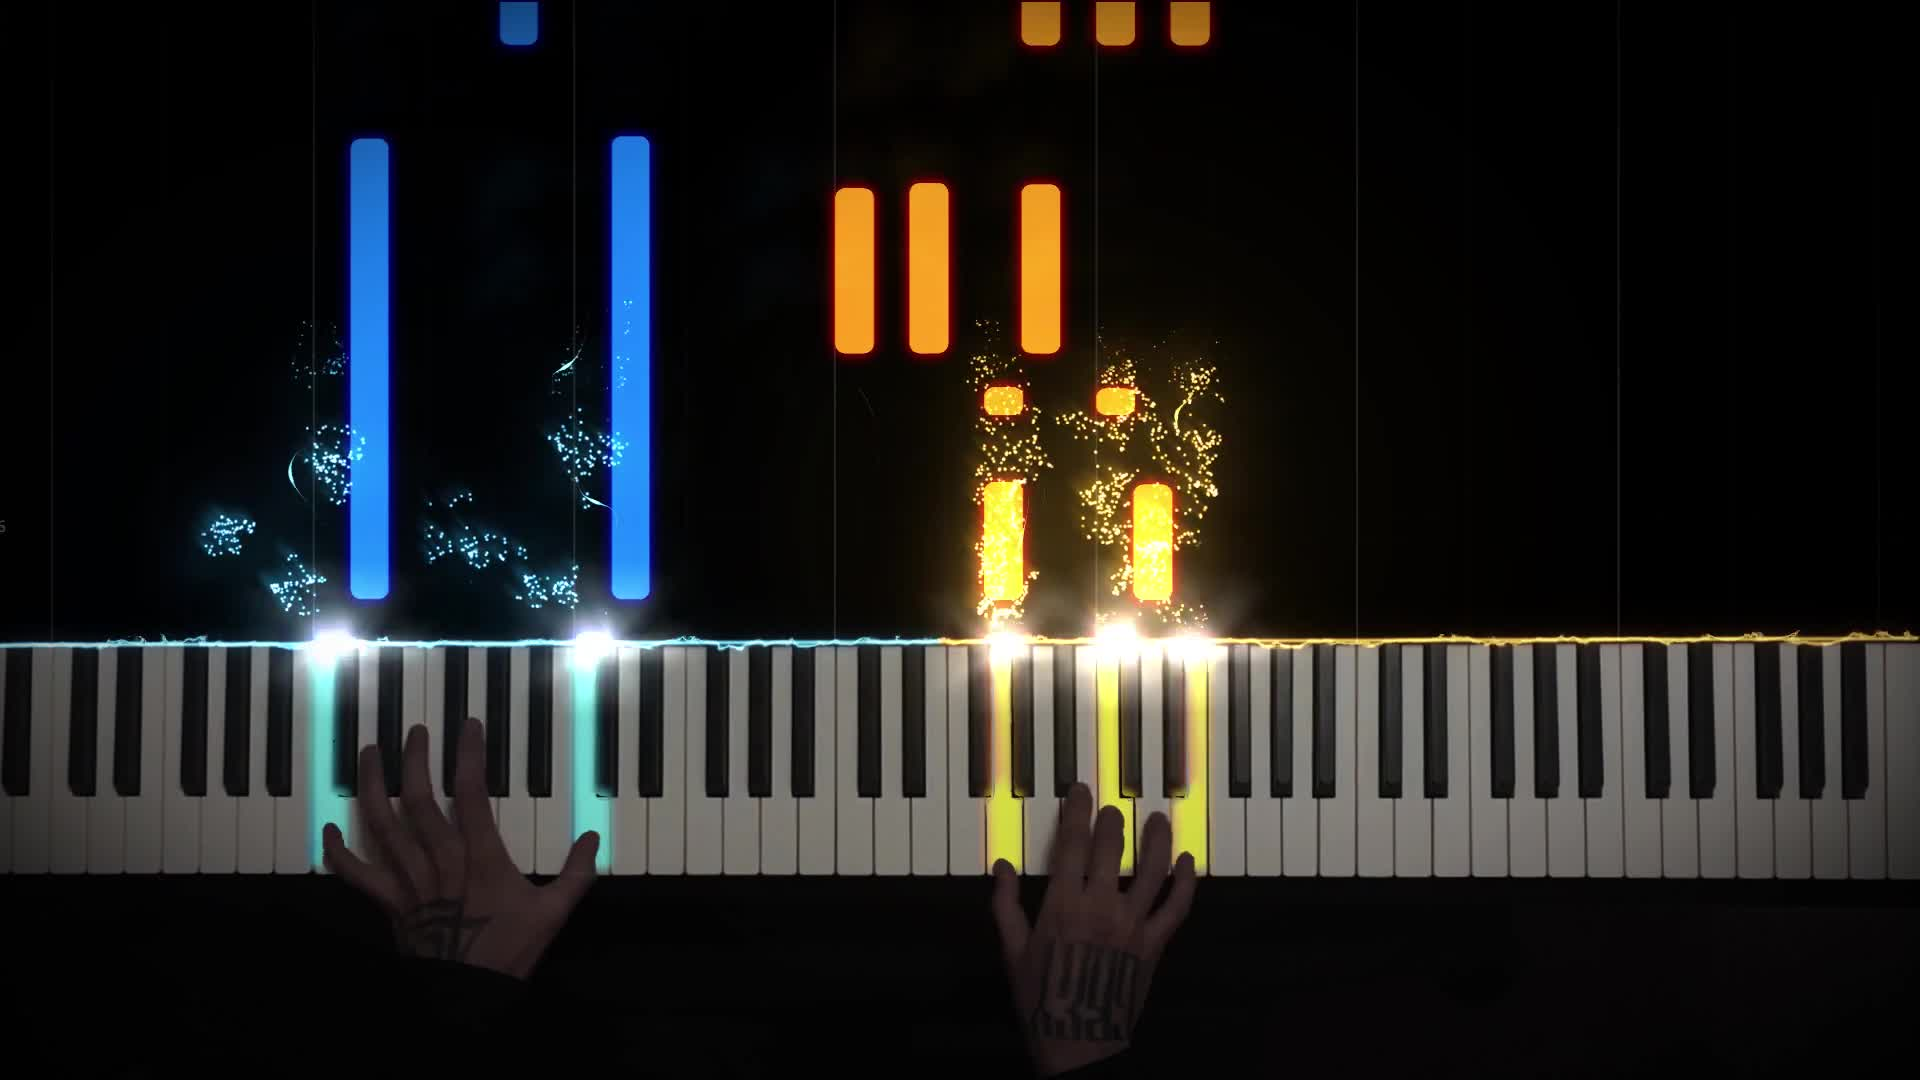left: (316, 715, 597, 978)
right: (989, 779, 1197, 1065)
